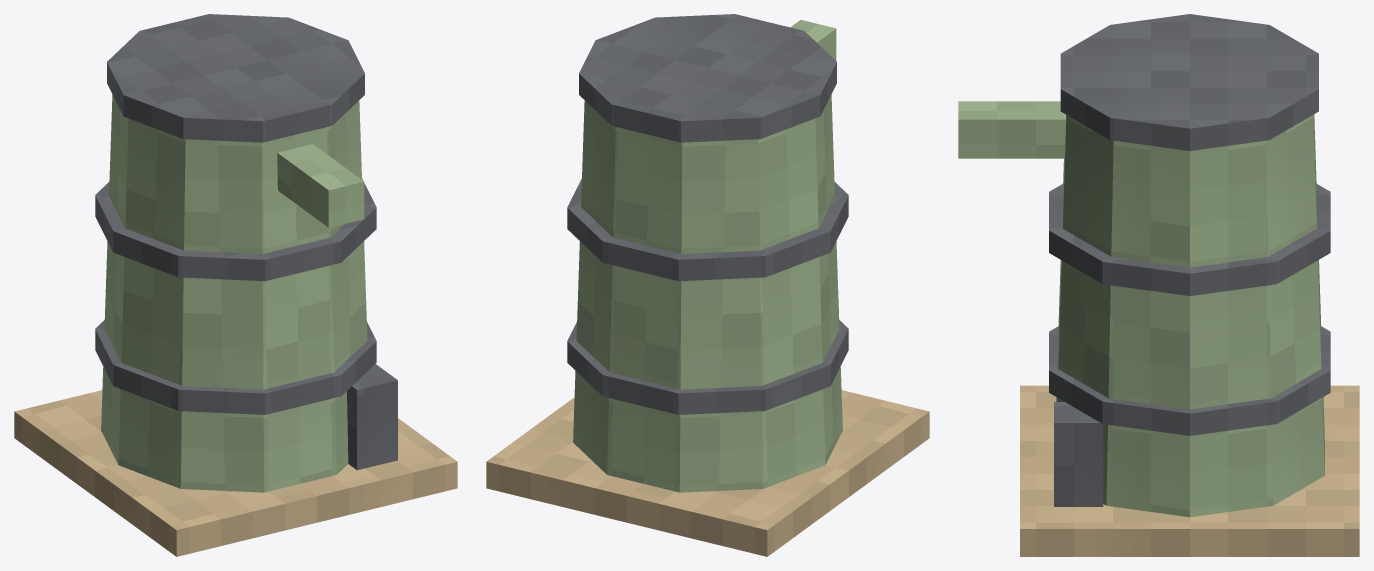
File: pixel-modern-farm-water-butt-9345812c__29151.glb
3 views of the same model, side by side, from view 1: azimuth 30°, elevation 25°; view 2: azimuth 150°, elevation 25°; view 3: azimuth 270°, elevation 25° (orthographic). The views are drawn at different scales.
Parts seen in each view (by area): view 1: water-butt; view 2: water-butt; view 3: water-butt.
Part boxes in pixels (<box>): water-butt: <box>14,14,457,556</box>; water-butt: <box>486,14,929,556</box>; water-butt: <box>958,14,1359,556</box>.
Bounding box in the file's own units: 1.1 × 1.48 × 1.3.
Materials: 3 (3 with a texture image).
